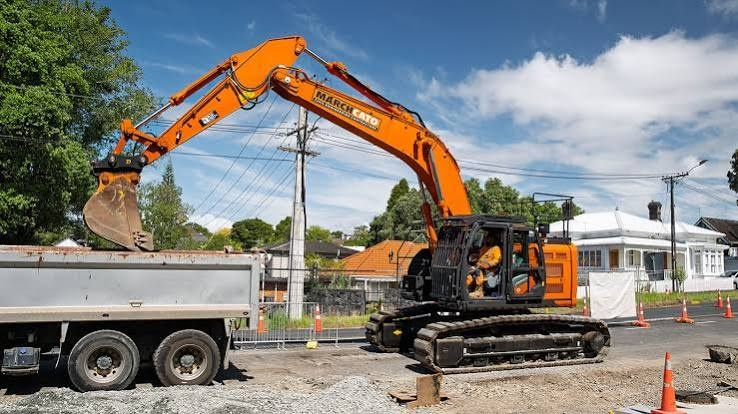excavator: (83, 28, 654, 396)
truck: (4, 227, 267, 392)
